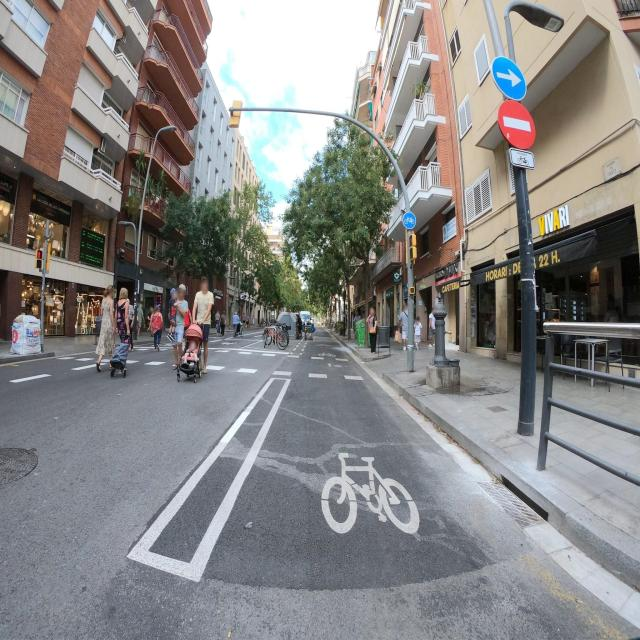bike: (174, 320, 209, 382), (263, 322, 287, 349)
